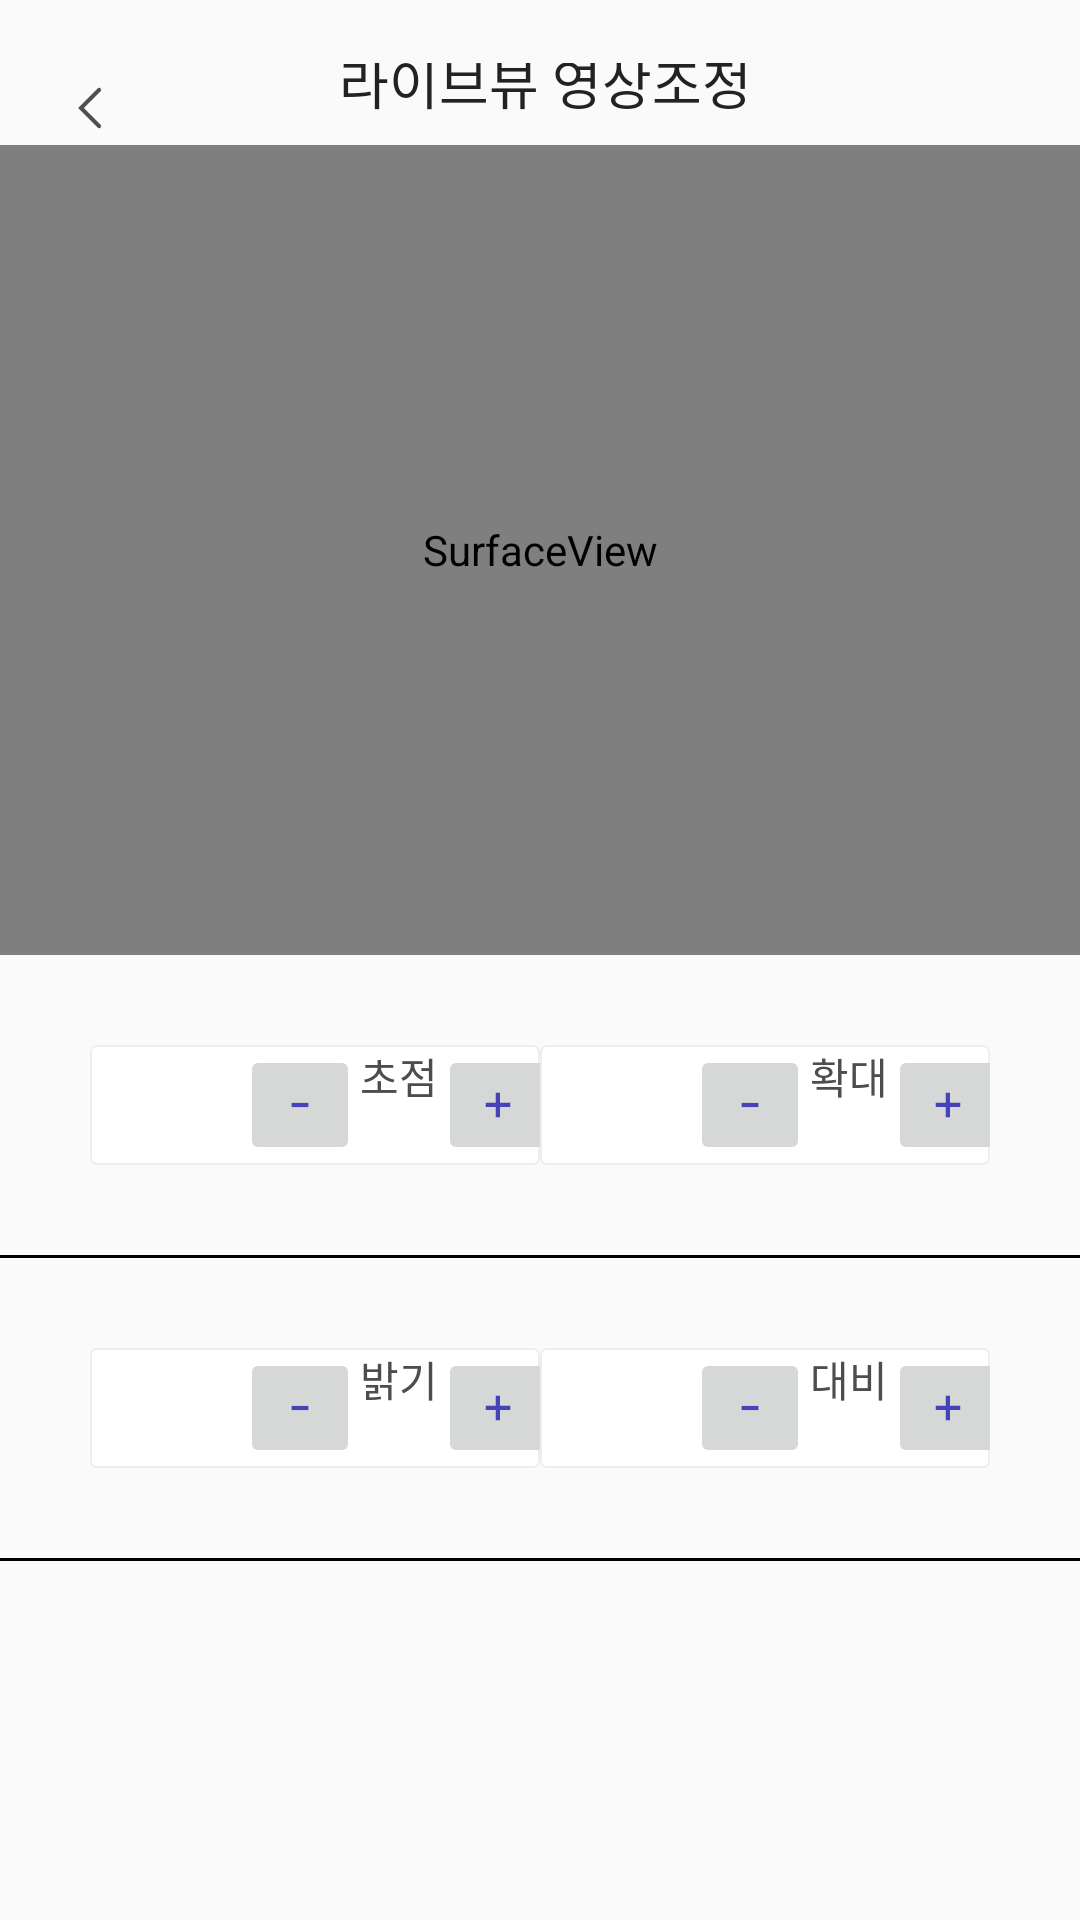

Screen size 1080 x 1920. Icon name, then its center in pixels as (x=x, y=y):
arrow: (x=89, y=108)
minus: (x=300, y=1105), (x=750, y=1105), (x=300, y=1408), (x=750, y=1408)
